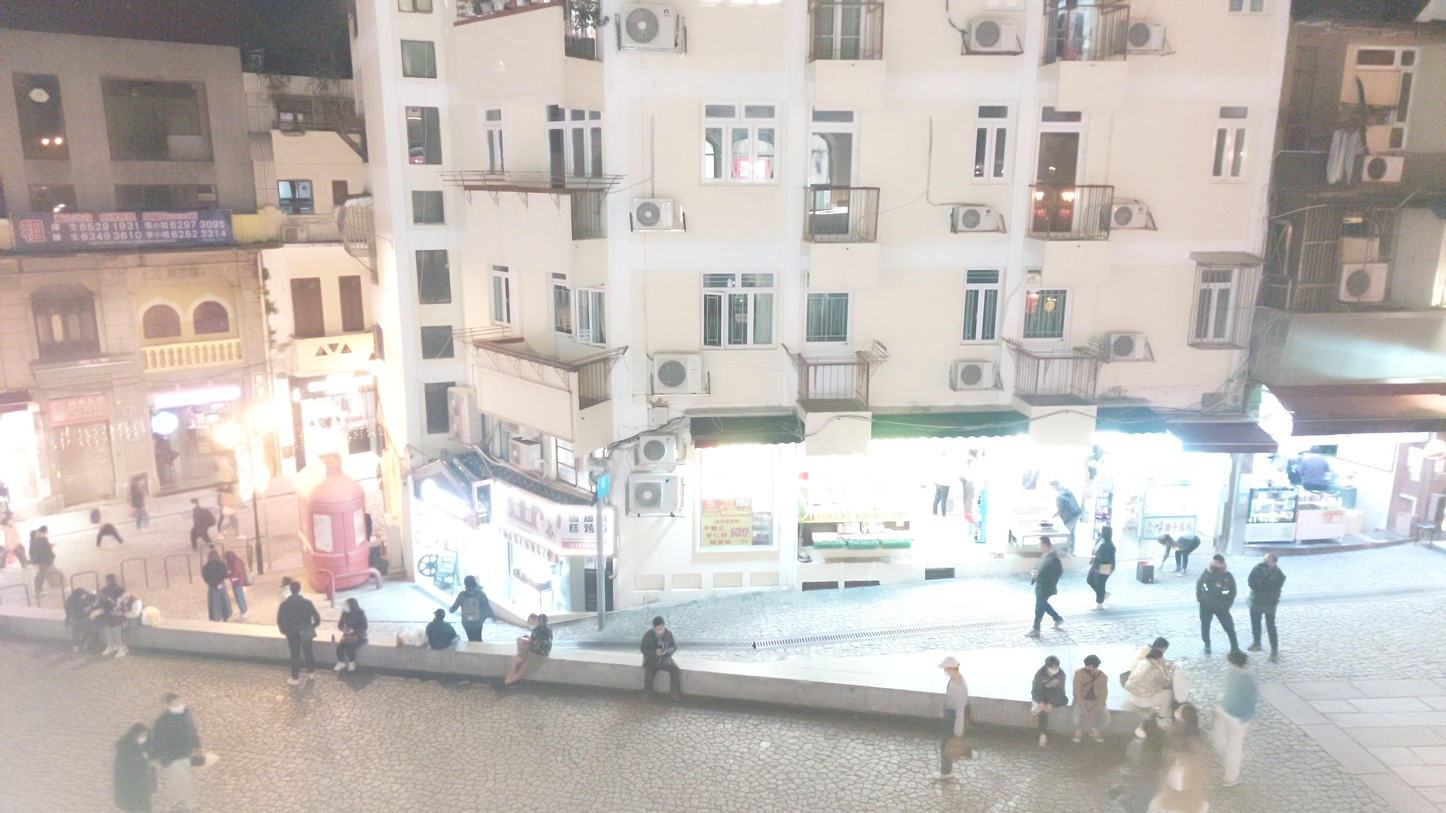human: (1211, 650, 1263, 788), (154, 692, 211, 813), (933, 655, 981, 782), (1242, 548, 1293, 665), (1194, 555, 1248, 659), (488, 614, 555, 695), (1160, 701, 1207, 813), (1019, 652, 1071, 751), (1022, 535, 1069, 641), (276, 585, 321, 688), (1038, 479, 1092, 560), (1116, 715, 1160, 813), (639, 617, 683, 710), (1069, 655, 1113, 747), (113, 721, 154, 813), (451, 575, 494, 654), (1082, 524, 1119, 614), (100, 590, 142, 663), (334, 600, 371, 674), (1124, 647, 1166, 710), (27, 524, 62, 599), (198, 549, 232, 626), (223, 548, 256, 621), (1157, 527, 1203, 579), (59, 590, 94, 656), (212, 480, 248, 541), (88, 493, 125, 550), (123, 472, 155, 533), (0, 510, 32, 571), (80, 597, 114, 651), (1141, 640, 1174, 695), (185, 497, 214, 553), (211, 447, 240, 500), (426, 608, 455, 651)
